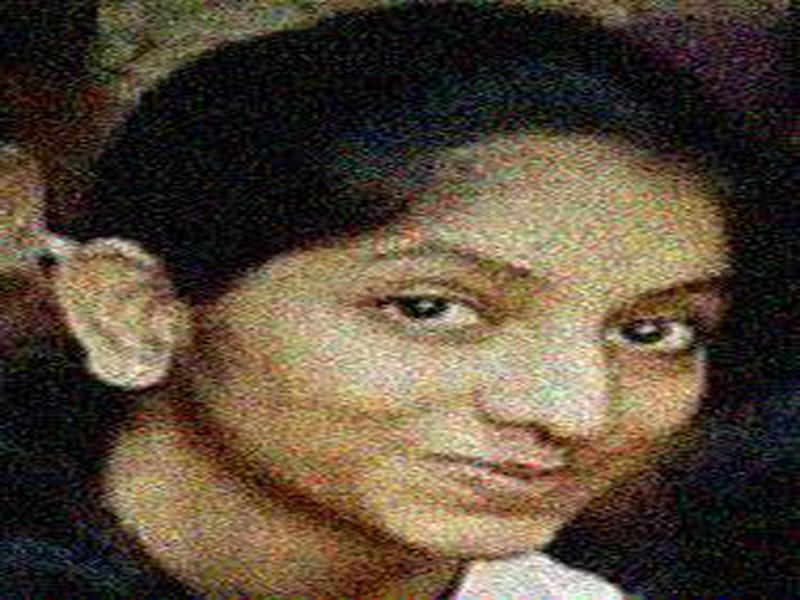without_mask: (196, 144, 723, 550)
